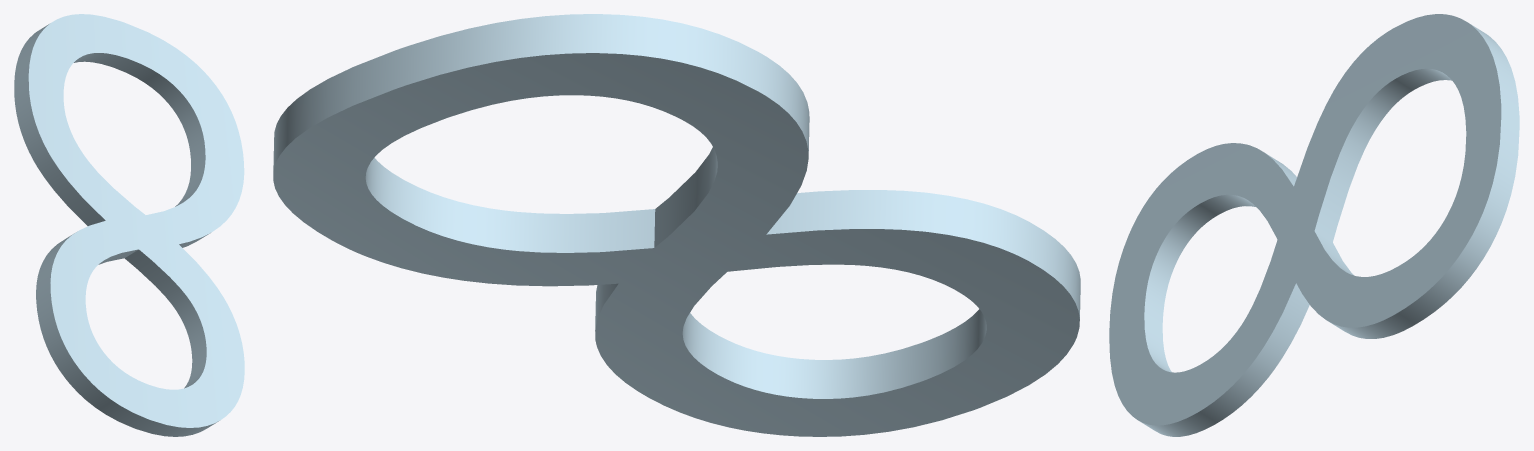
Rendered from Number_8.gltf.
3 views of the same model, side by side, from view 1: azimuth 30°, elevation 25°; view 2: azimuth 150°, elevation 25°; view 3: azimuth 270°, elevation 25° (orthographic). The views are drawn at different scales.
Parts seen in each view (by area): view 1: Sub_2_Cell_3_2_Number_8; view 2: Sub_2_Cell_3_2_Number_8; view 3: Sub_2_Cell_3_2_Number_8.
Part boxes in pixels (<box>): Sub_2_Cell_3_2_Number_8: <box>14,14,244,436</box>; Sub_2_Cell_3_2_Number_8: <box>273,14,1080,436</box>; Sub_2_Cell_3_2_Number_8: <box>1109,14,1519,436</box>.
Size of the model in its own units: 0.0197 by 0.0202 by 0.0193.
